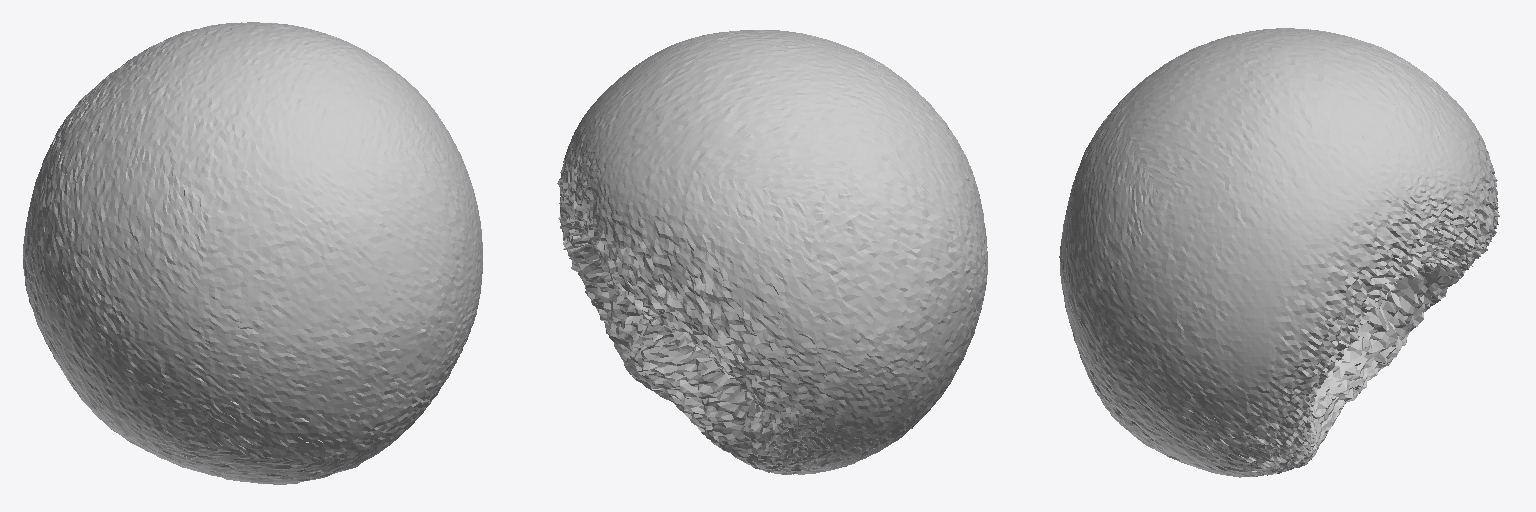
File: Geode1.obj
3 views of the same model, side by side, from view 1: azimuth 30°, elevation 25°; view 2: azimuth 150°, elevation 25°; view 3: azimuth 270°, elevation 25° (orthographic).
Visible parts, largest first — view 1: Cube_Cube.003; view 2: Cube_Cube.003; view 3: Cube_Cube.003.
Part boxes in pixels (left/top/right/bottom): Cube_Cube.003: left=23, top=22, right=482, bottom=484; Cube_Cube.003: left=557, top=30, right=987, bottom=474; Cube_Cube.003: left=1059, top=28, right=1499, bottom=477.
Bounding box in the file's own units: 3.53 × 3.58 × 3.44.